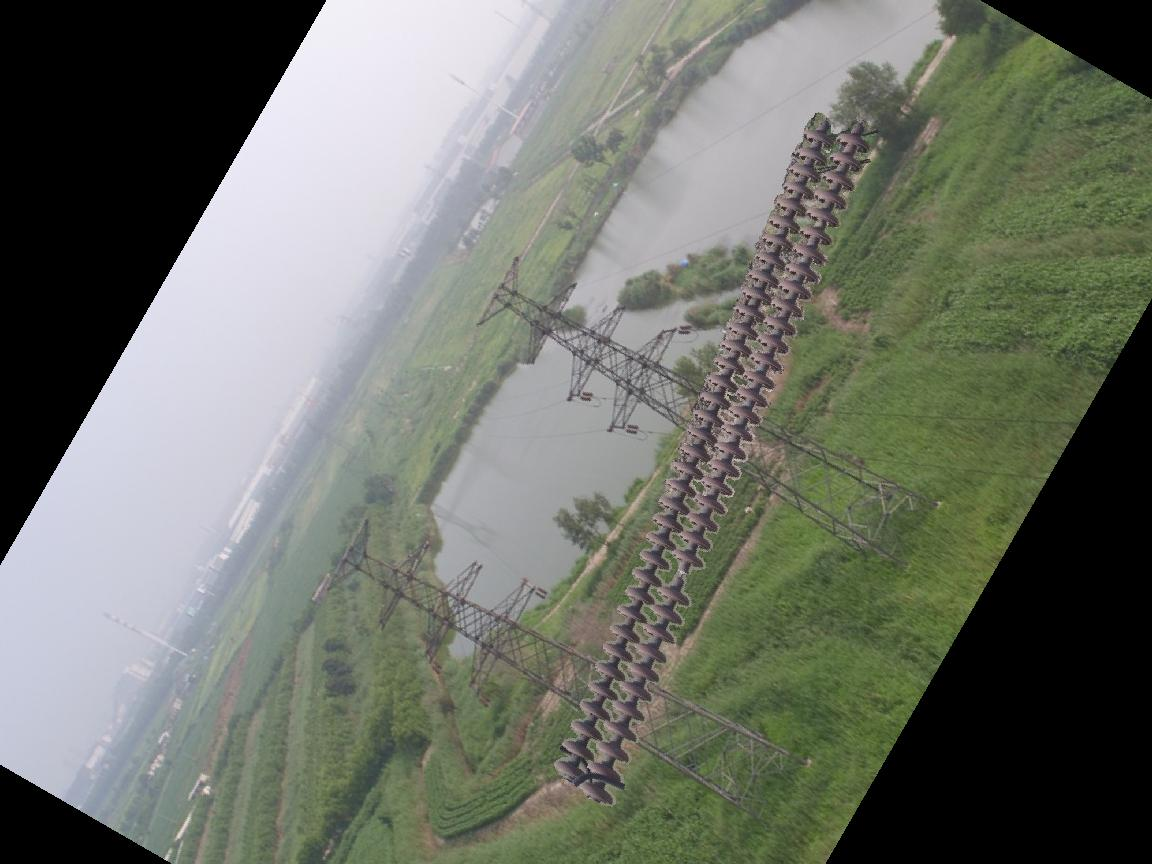insulator: (548, 114, 876, 811)
insulator_stringdrop: (652, 547, 705, 610)
